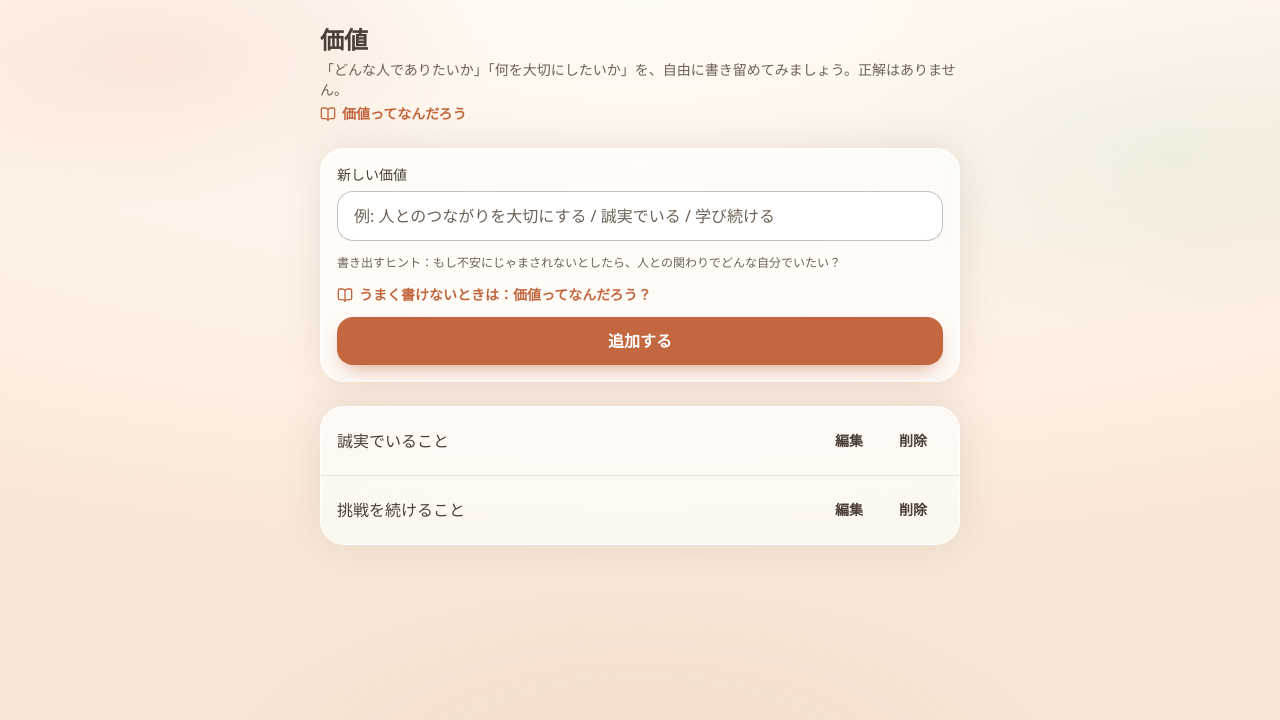
it: ValuesPage › 価値を削除できる
What coordinates should you click on to do the following:
click the button with aria-label "挑戦を続けること を削除"
I would click on:
 (913, 510)
Its box is [883, 488, 943, 532].
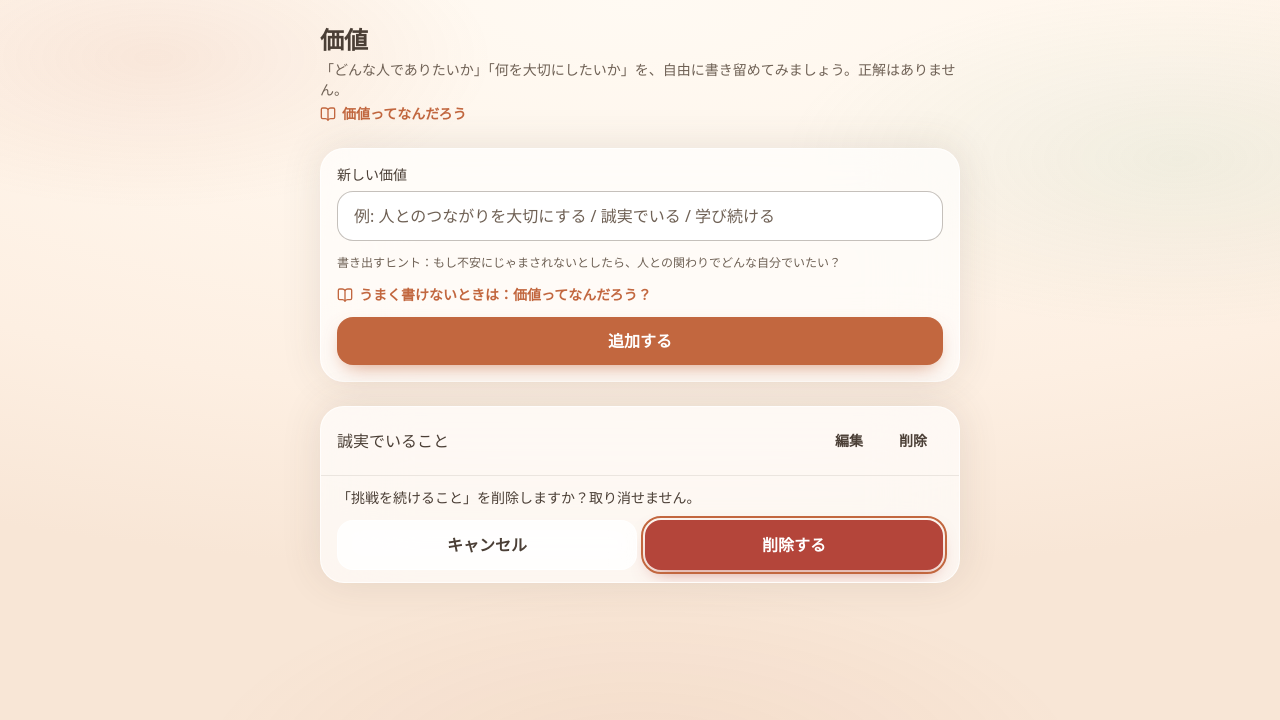
What coordinates should you click on to do the following:
click the button "削除する"
I would click on:
 (794, 544)
Its box is [645, 520, 943, 570].
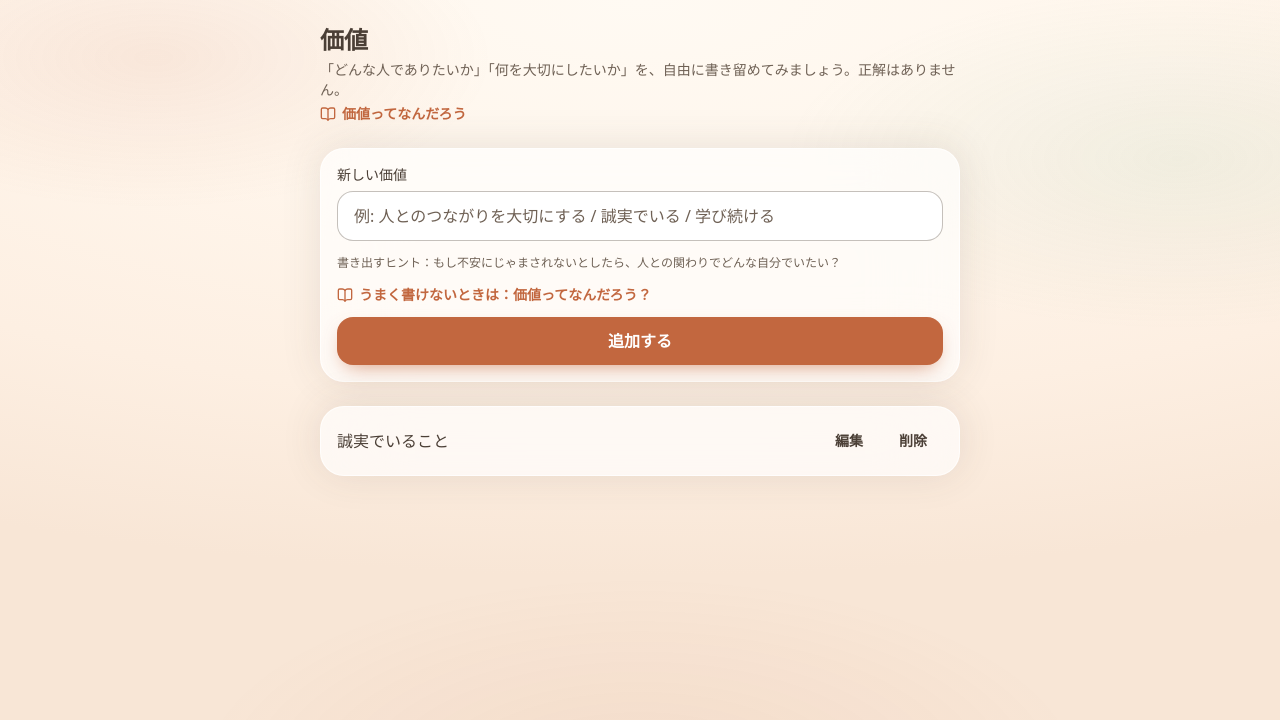
Expected: the text "誠実でいること" is shown, [337, 428, 449, 452]
Result: the text "挑戦を続けること" is gone
